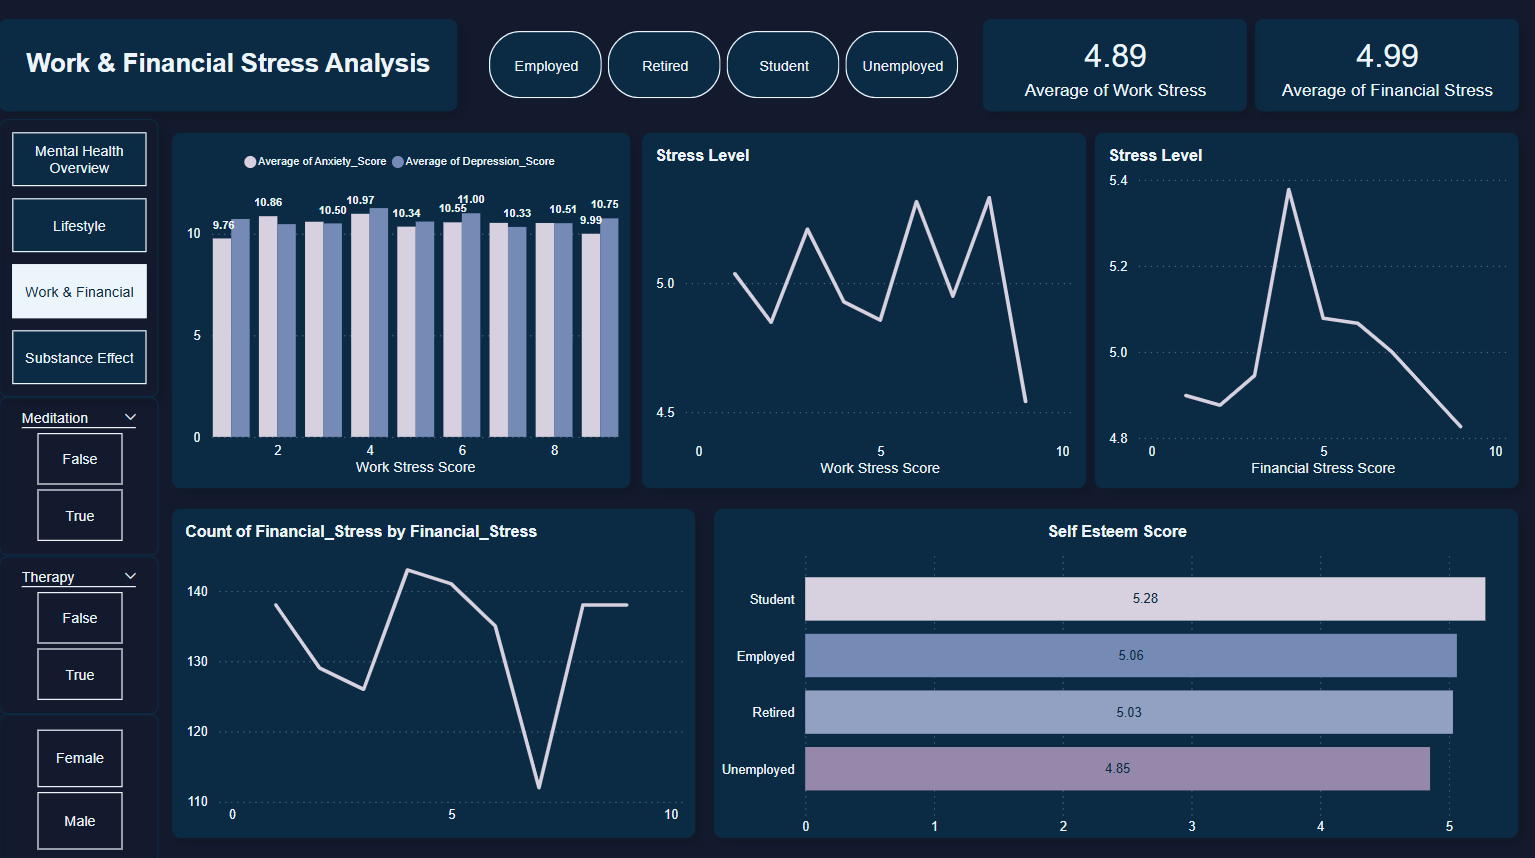

Layout of this report page (visuals, bound fields, positions):
{"tool":"powerbi","page":{"name":"Work & Financial ","canvas":[1280,720],"ordinal":2},"visuals":[{"type":"shape","box":[0,15.6,382.2,76.7],"z":0},{"type":"textbox","box":[0,41.1,382.2,51.1],"z":1000},{"type":"card","fields":{"Values":["Avg(anxiety_depression_data.Financial_Stress)"]},"box":[1047,16,220,77],"z":2000},{"type":"card","title":"Average of Work_Stress","fields":{"Values":["Avg(anxiety_depression_data.Work_Stress)"]},"box":[820,16,220,77],"z":3000},{"type":"slicer","fields":{"Values":["anxiety_depression_data.Gender"]},"box":[0,595,133,125],"z":4000},{"type":"pageNavigator","box":[0,99,133,232],"z":5000},{"type":"slicer","fields":{"Values":["anxiety_depression_data.Therapy"]},"box":[0,463,133,132],"z":6000},{"type":"slicer","fields":{"Values":["anxiety_depression_data.Meditation"]},"box":[0,331,133,132],"z":7000},{"type":"clusteredColumnChart","fields":{"Category":["anxiety_depression_data.Work_Stress"],"Y":["Avg(anxiety_depression_data.Anxiety_Score)","Avg(anxiety_depression_data.Depression_Score)"]},"box":[144.4,111.1,382.2,295.6],"z":8000},{"type":"lineChart","fields":{"Category":["anxiety_depression_data.Financial_Stress"],"Y":["CountNonNull(anxiety_depression_data.Financial_Stress)"]},"box":[144.4,424.4,435.6,274.4],"z":9000},{"type":"lineChart","title":"Stress Level","fields":{"Category":["anxiety_depression_data.Work_Stress"],"Y":["Avg(anxiety_depression_data.Stress_Level)"]},"box":[535.6,111.1,370,295.6],"z":10000},{"type":"lineChart","title":"Stress Level","fields":{"Y":["Avg(anxiety_depression_data.Stress_Level)"],"Category":["anxiety_depression_data.Financial_Stress"]},"box":[913.3,110.9,353.3,295.6],"z":11000},{"type":"barChart","title":"Self Esteem Score","fields":{"Category":["anxiety_depression_data.Employment_Status"],"Series":["anxiety_depression_data.Employment_Status"],"Y":["Avg(anxiety_depression_data.Self_Esteem_Score)"]},"box":[595.6,424.4,670,274.4],"z":12000},{"type":"advancedSlicerVisual","fields":{"Values":["anxiety_depression_data.Employment_Status"]},"box":[398,16,413,76],"z":13000}]}

Visuals, with their boxes in screenshot pixels (x1, y1, x2, y2), scaled from the page's 1280x720 canvas onto the 1535x858 screenshot:
shape: crop(0, 19, 458, 110)
textbox: crop(0, 49, 458, 110)
card - Avg(anxiety_depression_data.Financial_Stress): crop(1256, 19, 1519, 111)
"Average of Work_Stress" card: crop(983, 19, 1247, 111)
slicer - anxiety_depression_data.Gender: crop(0, 709, 159, 857)
pageNavigator: crop(0, 118, 159, 394)
slicer - anxiety_depression_data.Therapy: crop(0, 552, 159, 709)
slicer - anxiety_depression_data.Meditation: crop(0, 394, 159, 552)
clusteredColumnChart - anxiety_depression_data.Work_Stress x Avg(anxiety_depression_data.Anxiety_Score): crop(173, 132, 632, 485)
lineChart - anxiety_depression_data.Financial_Stress x CountNonNull(anxiety_depression_data.Financial_Stress): crop(173, 506, 696, 833)
"Stress Level" lineChart: crop(642, 132, 1086, 485)
"Stress Level" lineChart: crop(1095, 132, 1519, 484)
"Self Esteem Score" barChart: crop(714, 506, 1518, 833)
advancedSlicerVisual - anxiety_depression_data.Employment_Status: crop(477, 19, 973, 110)
